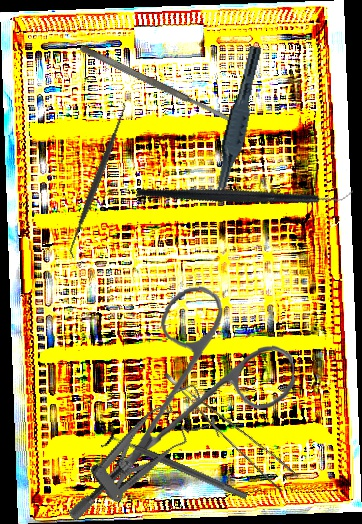Chopper: (135, 111, 355, 273)
Fixation Ring: (100, 424, 252, 509)
Iris Scissors: (88, 279, 302, 497)
Spatula Surgical: (78, 43, 240, 128), (59, 100, 136, 260)
Speculum: (40, 380, 231, 524)
Tissue Forceps: (163, 353, 299, 498), (209, 43, 263, 208)
